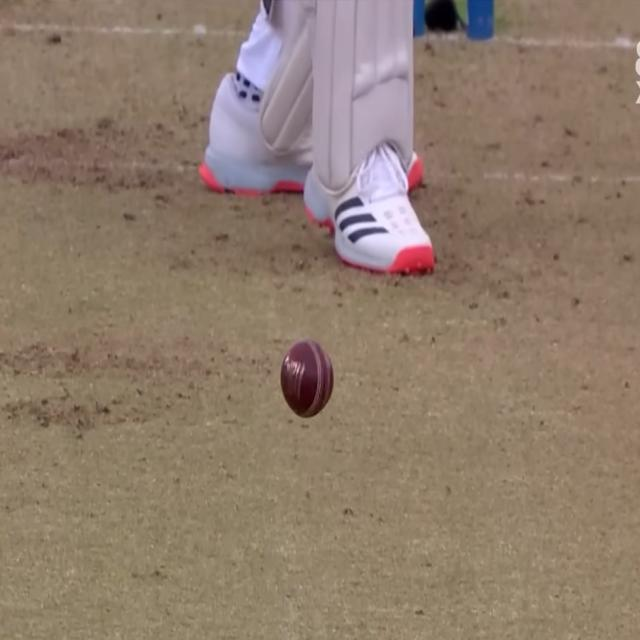ball: (279, 337, 335, 419)
